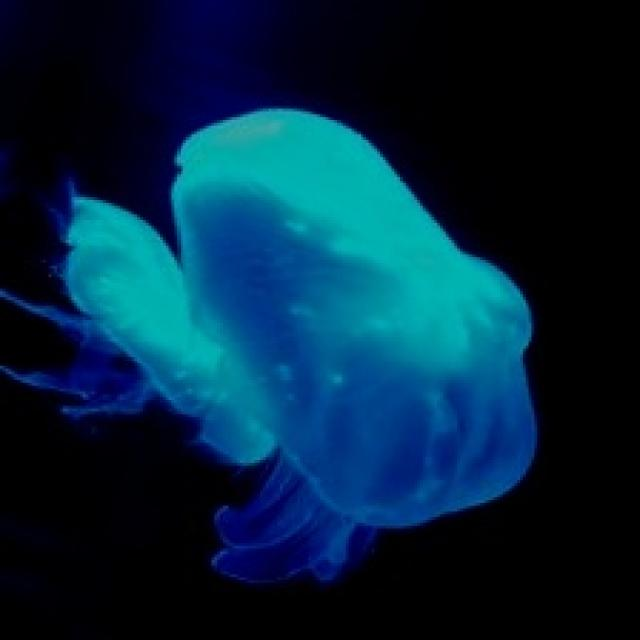Jellyfish: (0, 106, 551, 583)
